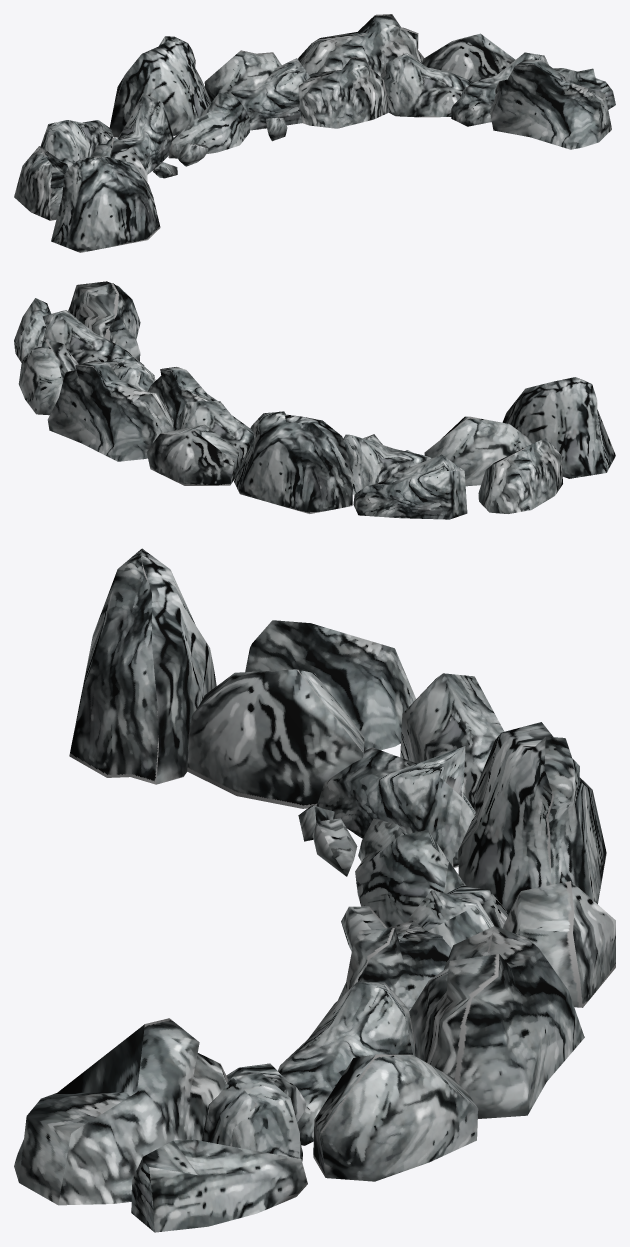
File: STR_WallBoulderC.FBX
The picture shows the model from 3 angles, top to bottom: view 1: azimuth 30°, elevation 25°; view 2: azimuth 150°, elevation 25°; view 3: azimuth 270°, elevation 25°; orthographic projection. The views are drawn at different scales.
Visible parts, largest first — view 1: STR_WallBoulderC; view 2: STR_WallBoulderC; view 3: STR_WallBoulderC.
Boxes of the visible parts, x1,y1,x2,y2 form: STR_WallBoulderC: [14, 14, 615, 252]; STR_WallBoulderC: [14, 281, 615, 519]; STR_WallBoulderC: [14, 548, 615, 1232].
Bounding box in the file's own units: 1549 × 213 × 719.
